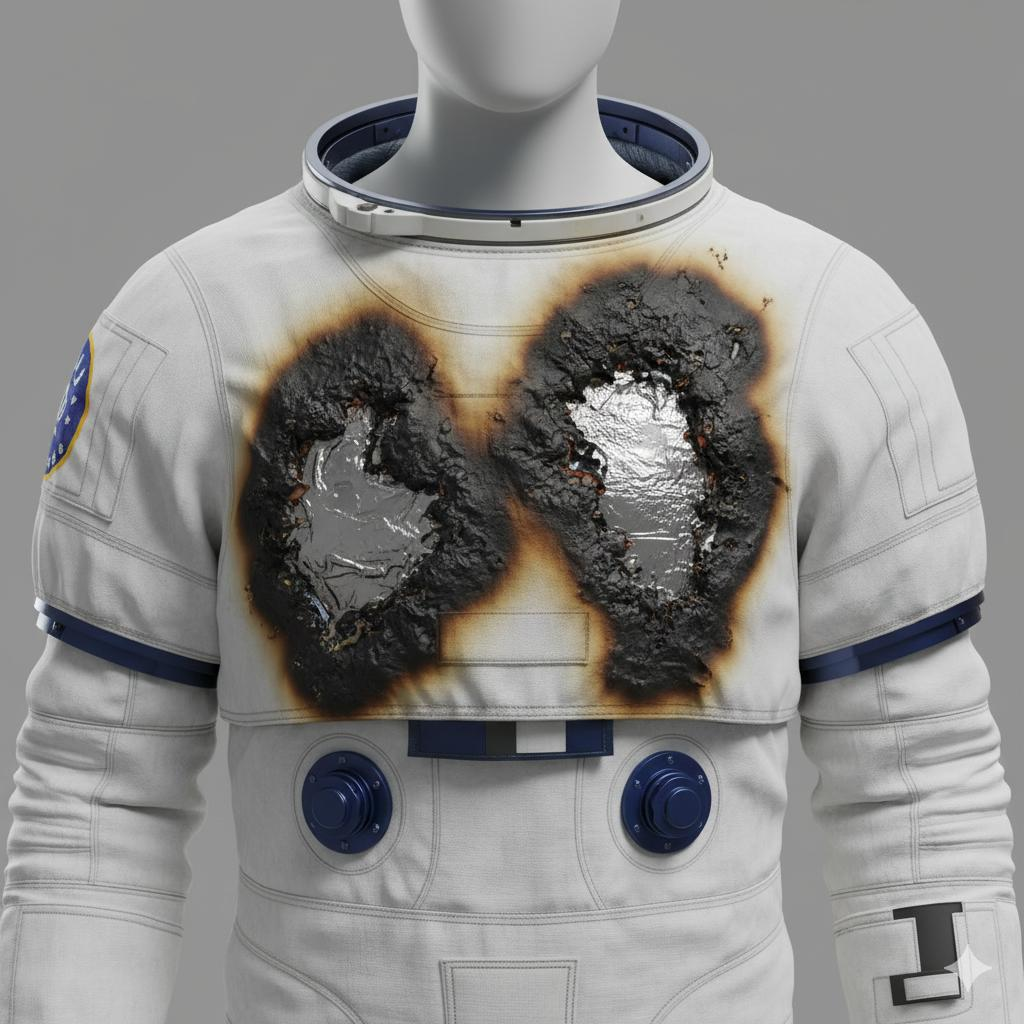burn: (180, 263, 789, 762)
